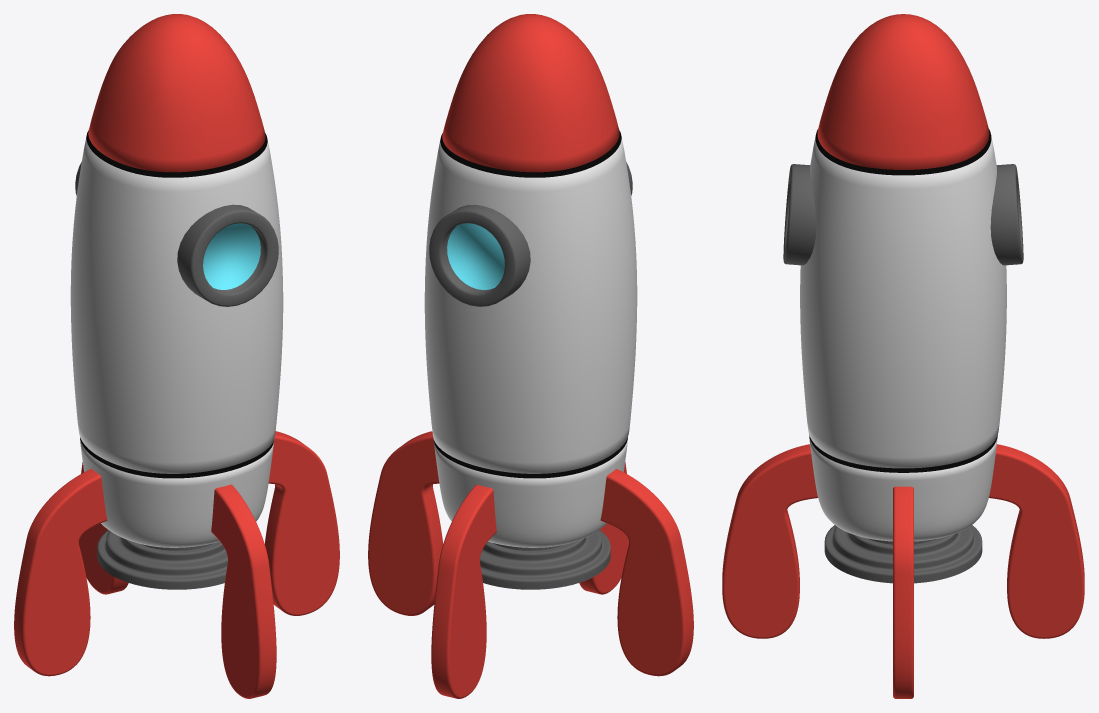
3 views of the same model, side by side, from view 1: azimuth 30°, elevation 25°; view 2: azimuth 150°, elevation 25°; view 3: azimuth 270°, elevation 25° (orthographic).
Parts seen in each view (by area): view 1: Cube, BezierCircle002, BezierCircle003, BezierCircle, Cylinder003, Cylinder003_1, BezierCircle001; view 2: Cube, BezierCircle002, BezierCircle003, BezierCircle001, Cylinder, BezierCircle; view 3: Cube, BezierCircle, BezierCircle001, BezierCircle003, Cylinder003, Cylinder.
Boxes of the visible parts, <box> form: Cube: <box>70,14,283,589</box>; BezierCircle002: <box>14,469,107,676</box>; BezierCircle003: <box>265,431,339,615</box>; BezierCircle: <box>211,484,276,698</box>; Cylinder003: <box>177,204,278,306</box>; Cylinder003_1: <box>203,223,260,289</box>; BezierCircle001: <box>79,462,128,594</box>; Cube: <box>424,14,637,589</box>; BezierCircle002: <box>600,469,693,676</box>; BezierCircle003: <box>368,431,442,615</box>; BezierCircle001: <box>431,484,496,698</box>; Cylinder: <box>429,204,530,306</box>; BezierCircle: <box>579,462,628,594</box>; Cube: <box>800,14,1006,583</box>; BezierCircle: <box>722,444,817,638</box>; BezierCircle001: <box>989,444,1084,638</box>; BezierCircle003: <box>893,486,913,698</box>; Cylinder003: <box>783,164,816,265</box>; Cylinder: <box>990,164,1023,265</box>.
Bounding box in the file's own units: 3.83 × 7.18 × 3.83.
